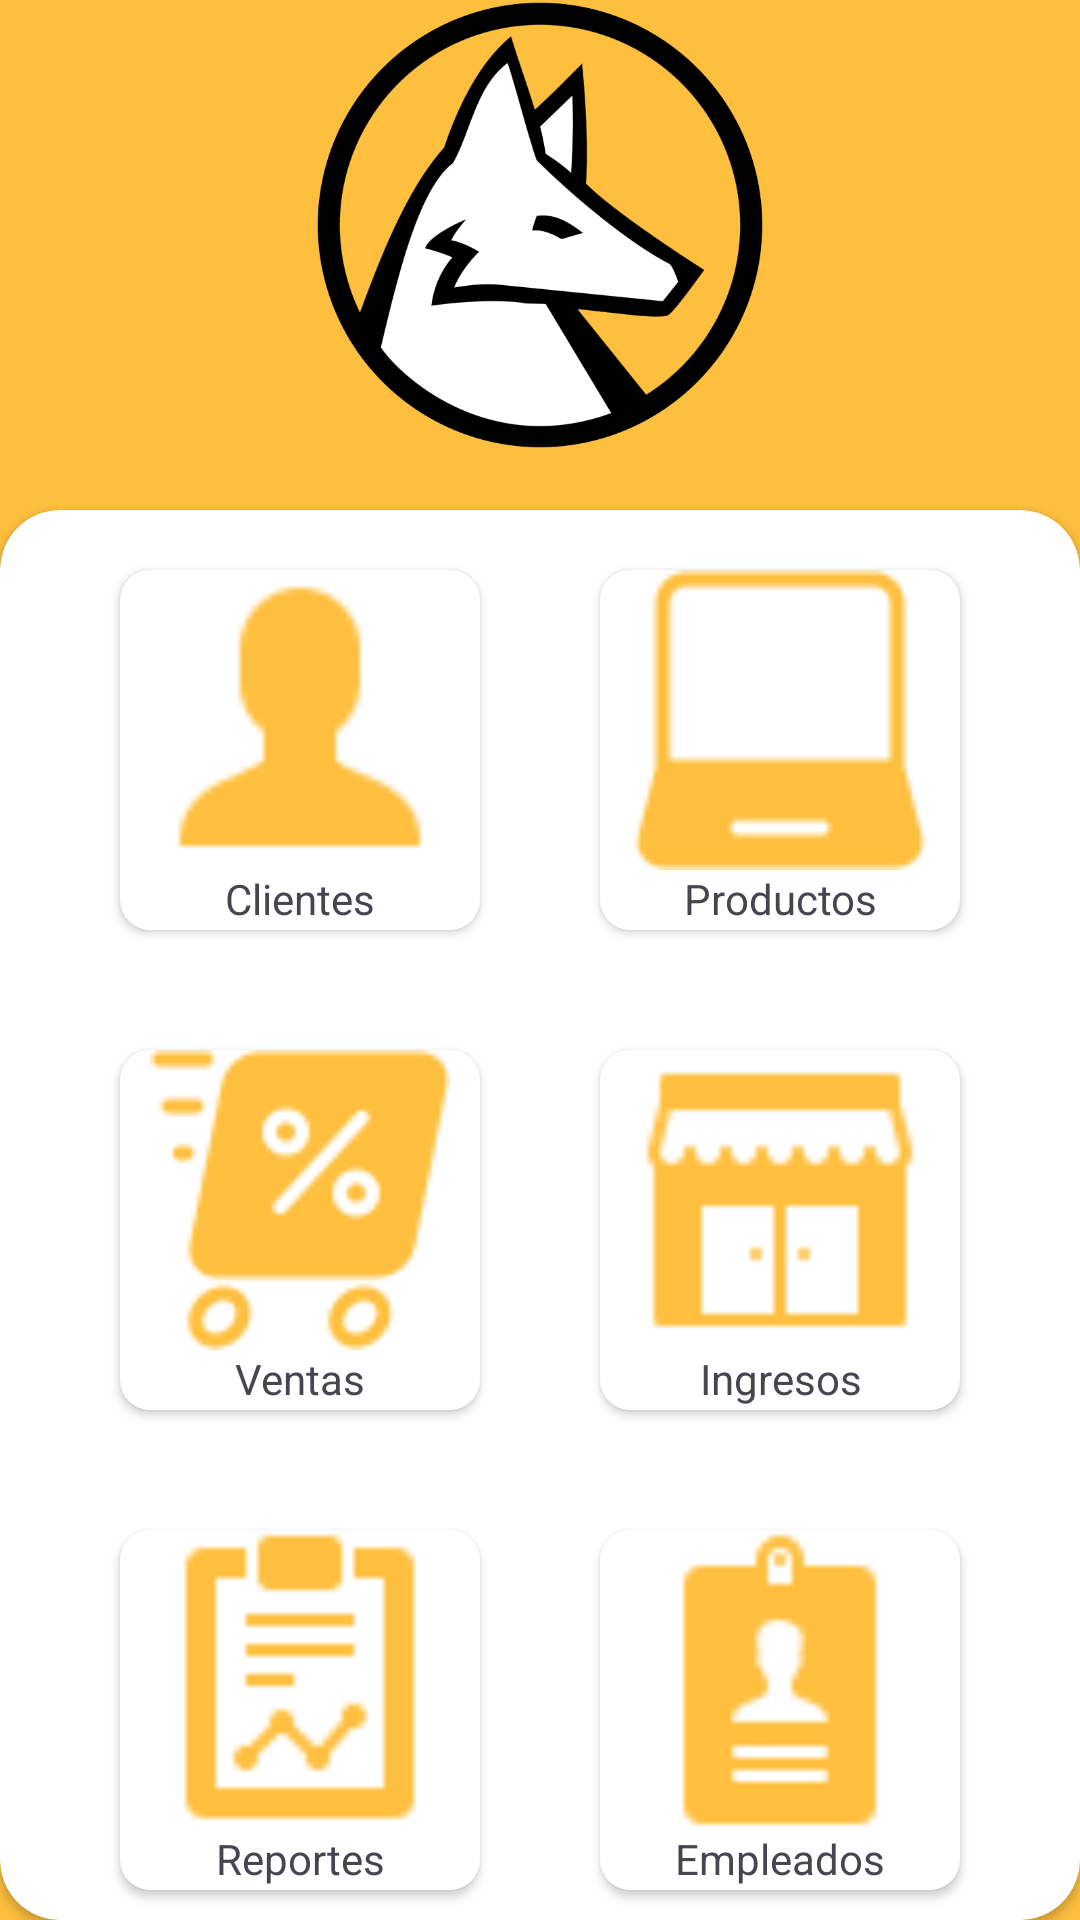

Screen size 1080w x 1920h. Icon name, then its center in pixels as (x=x, y=y):
almacen: (x=780, y=1200)
laptop: (x=780, y=720)
